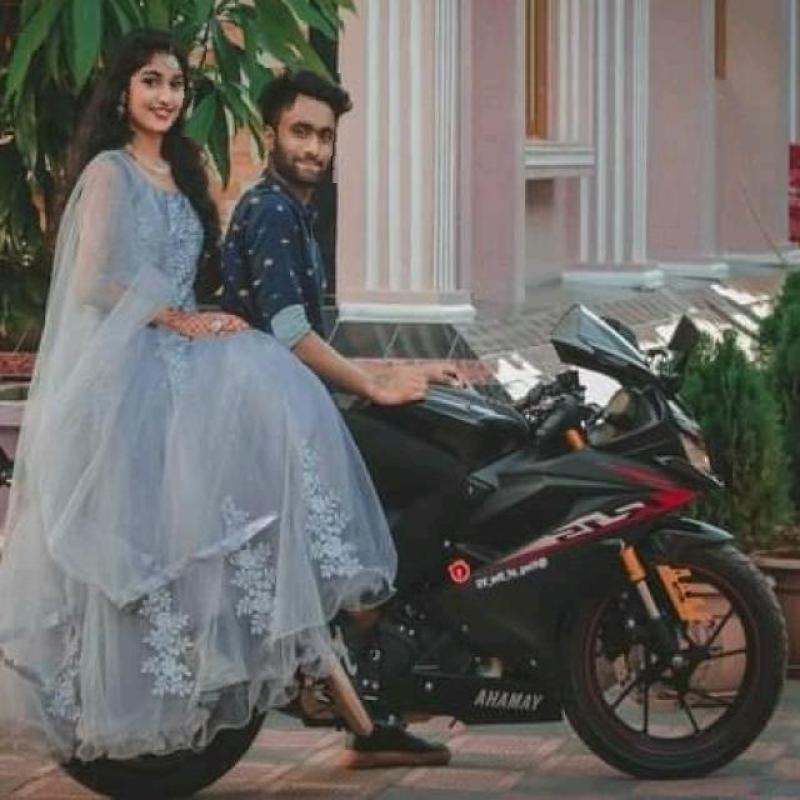nohelmet: (258, 70, 343, 182), (116, 38, 206, 136)
